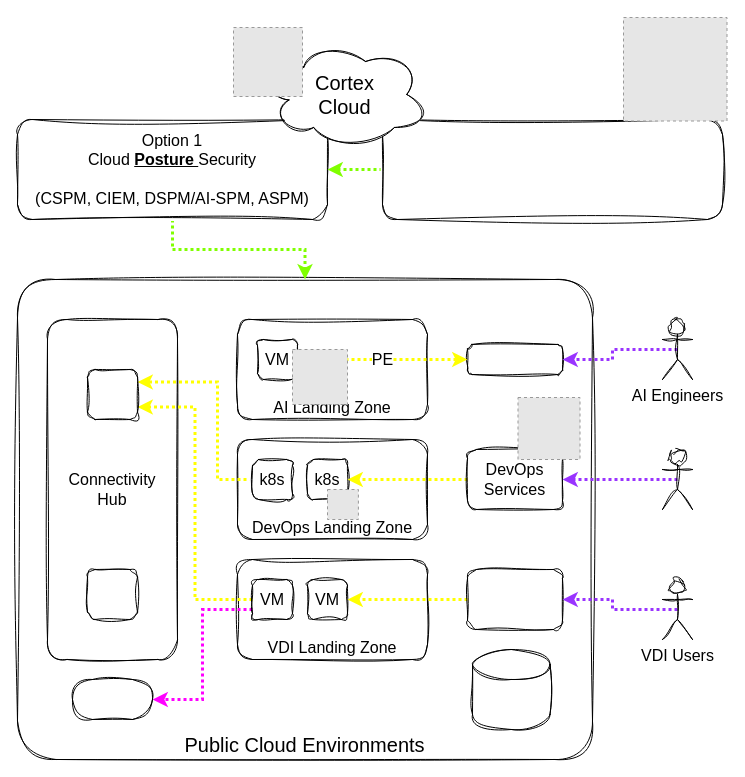
Some shapes in this 745 by 777 pixel diagram are drawn without their labels. Grey dashed boxes stand in for pictures. Each missing label, with the centre of its shape:
AI Services: point 514,359
Broker Services: point 514,599
Cloud storage: point 511,689
Developers DevOps: point 677,479
FW: point 112,394
IAM: point 112,699
Option 2 Cloud Runtime Security (Everything in Option 1 + Workload Agent): point 552,169
VPN: point 112,594
